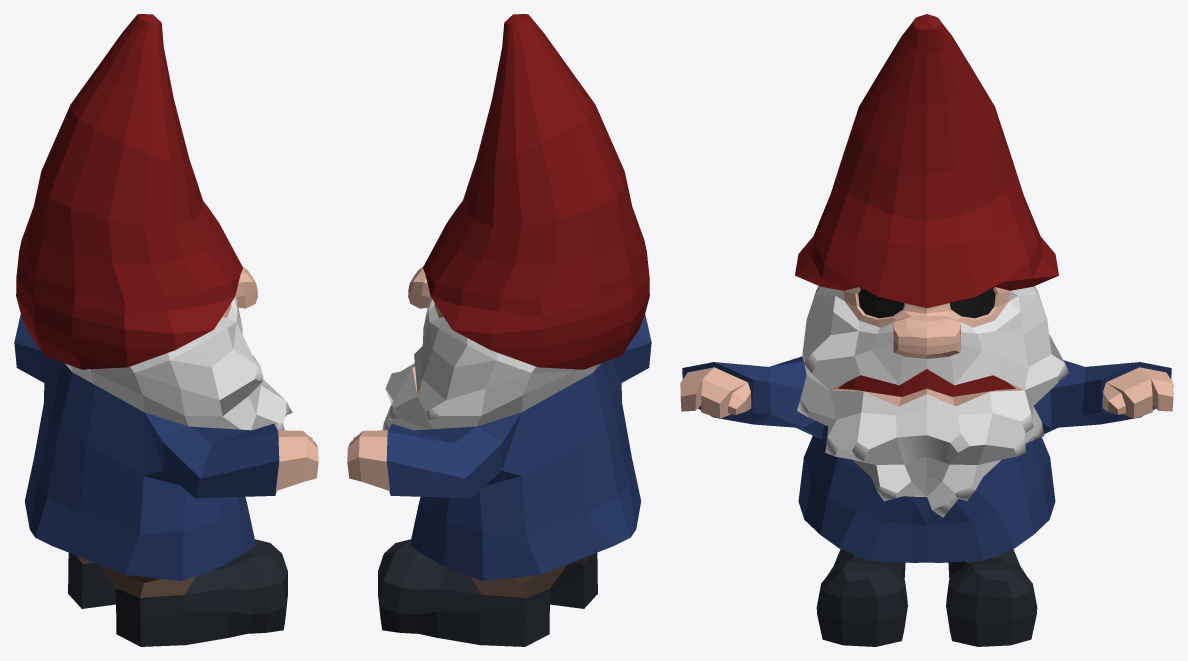
The model's file is Gnome_Garden_Evil_Chubby.fbx.
The picture shows the model from 3 angles, left to right: view 1: azimuth 30°, elevation 25°; view 2: azimuth 150°, elevation 25°; view 3: azimuth 270°, elevation 25°; orthographic projection. The views are drawn at different scales.
Parts seen in each view (by area): view 1: Garden_Gnome_Evil_Chubby; view 2: Garden_Gnome_Evil_Chubby; view 3: Garden_Gnome_Evil_Chubby.
Part boxes in pixels (x1,y1,x2,y2): Garden_Gnome_Evil_Chubby: [14, 14, 318, 646]; Garden_Gnome_Evil_Chubby: [347, 14, 651, 646]; Garden_Gnome_Evil_Chubby: [680, 14, 1173, 646].
Size of the model in its own units: 72.22 by 180 by 138.
